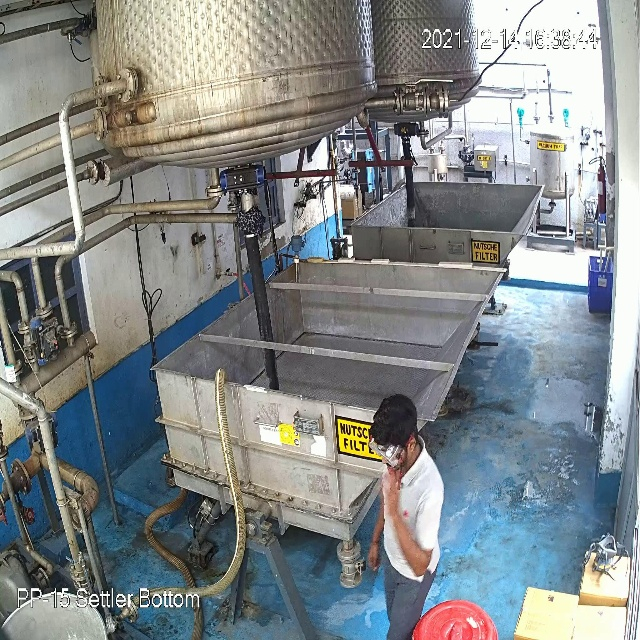Gafas: (363, 433, 410, 472)
